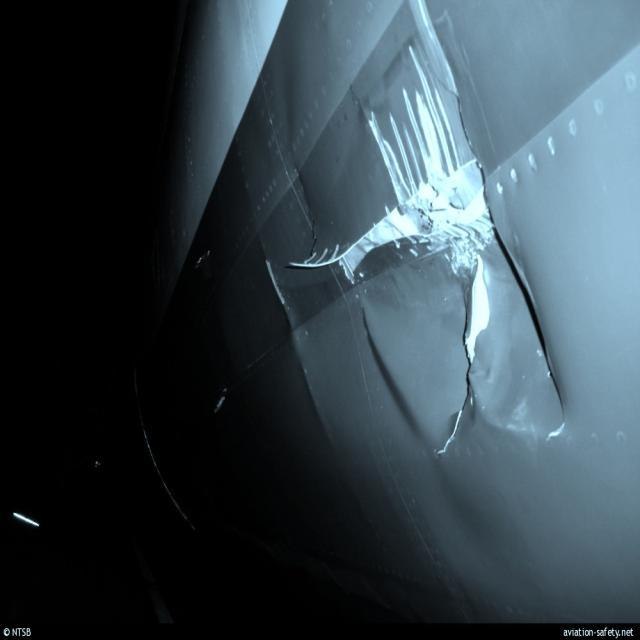crack: (438, 305, 481, 460)
dent: (358, 299, 432, 452), (489, 299, 529, 432)
